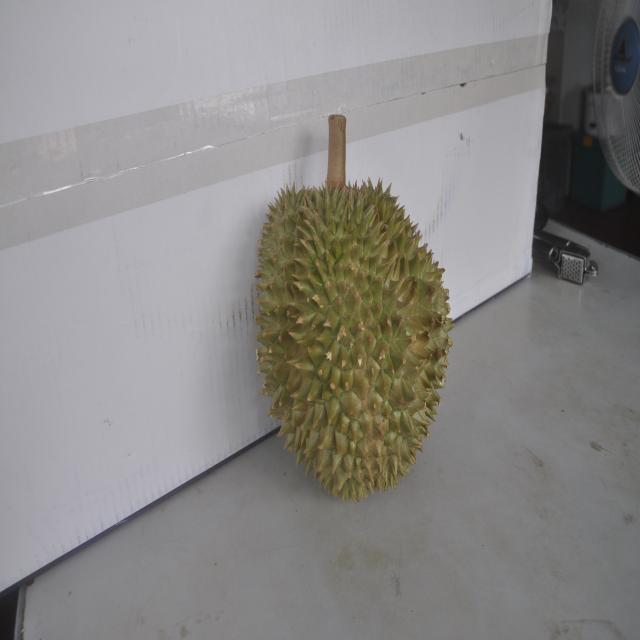mature: (252, 165, 448, 500)
